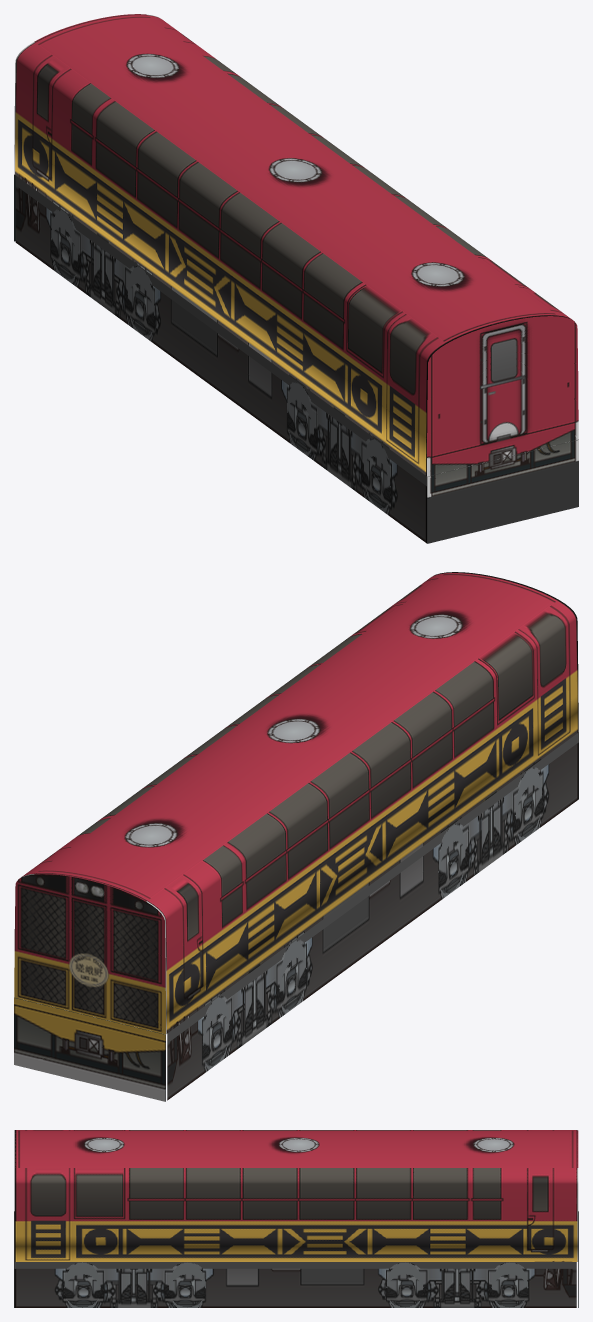
The model's file is car2.glb.
The picture shows the model from 3 angles, top to bottom: view 1: azimuth 30°, elevation 25°; view 2: azimuth 150°, elevation 25°; view 3: azimuth 270°, elevation 25°; orthographic projection. The views are drawn at different scales.
Parts seen in each view (by area): view 1: sagano-de10-car2; view 2: sagano-de10-car2; view 3: sagano-de10-car2.
Part boxes in pixels (<box>): sagano-de10-car2: <box>14,14,578,543</box>; sagano-de10-car2: <box>14,572,578,1101</box>; sagano-de10-car2: <box>14,1130,578,1307</box>.
Size of the model in its own units: 2.84 by 3.62 by 13.41.
9 materials, 8 textured.
